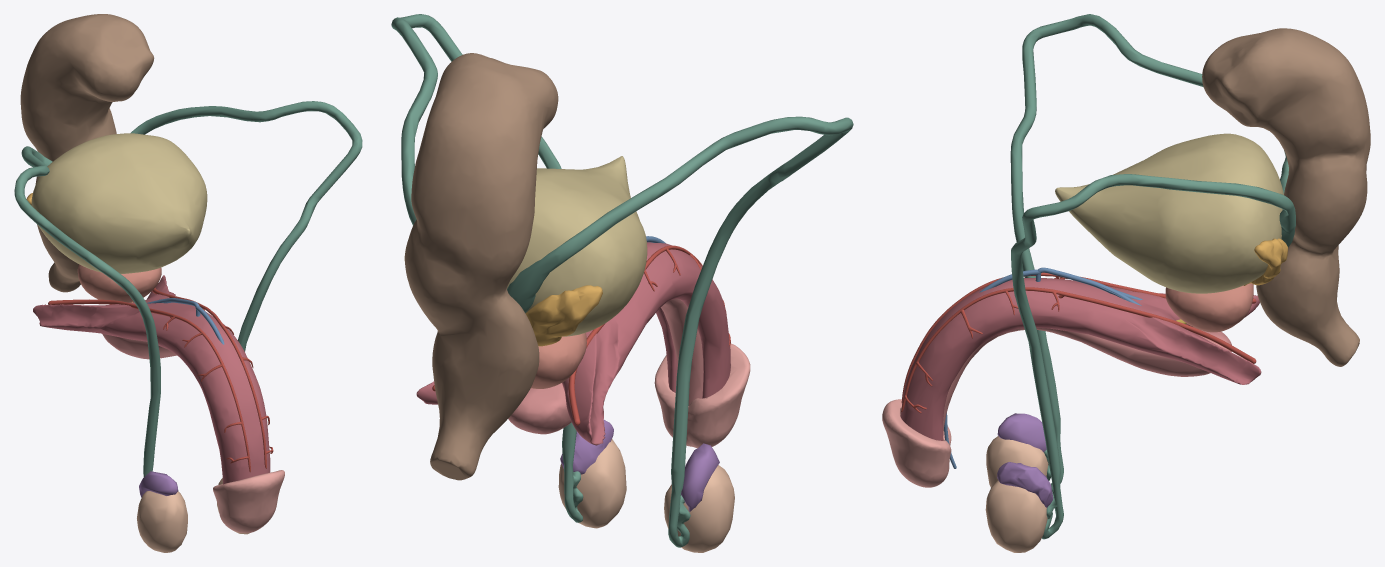
Rendered from prostate.glb.
3 views of the same model, side by side, from view 1: azimuth 30°, elevation 25°; view 2: azimuth 150°, elevation 25°; view 3: azimuth 270°, elevation 25° (orthographic). The views are drawn at different scales.
Parts seen in each view (by area): view 1: urinary-bladder, rectum, corpora-cavernosa, deferent-ducts, glans-penis, testes, dorsal-arteries, prostate, corpus-spongiosum, epididymides, dorsal-veins; view 2: rectum, deferent-ducts, urinary-bladder, corpora-cavernosa, testes, glans-penis, corpus-spongiosum, seminal-vesicles, epididymides, prostate, dorsal-arteries; view 3: rectum, urinary-bladder, corpora-cavernosa, deferent-ducts, testes, glans-penis, dorsal-arteries, prostate, corpus-spongiosum, epididymides, dorsal-veins, seminal-vesicles.
Boxes of the visible parts, left/top/right/bottom form: urinary-bladder: left=31, top=133, right=207, bottom=273; rectum: left=20, top=14, right=154, bottom=292; corpora-cavernosa: left=33, top=275, right=270, bottom=484; deferent-ducts: left=14, top=101, right=362, bottom=477; glans-penis: left=213, top=470, right=284, bottom=533; testes: left=137, top=478, right=249, bottom=552; dorsal-arteries: left=48, top=287, right=273, bottom=472; prostate: left=77, top=264, right=161, bottom=302; corpus-spongiosum: left=102, top=334, right=176, bottom=359; epididymides: left=139, top=471, right=178, bottom=497; dorsal-veins: left=147, top=298, right=224, bottom=344; rectum: left=405, top=53, right=558, bottom=480; deferent-ducts: left=391, top=14, right=853, bottom=547; urinary-bladder: left=507, top=156, right=647, bottom=336; corpora-cavernosa: left=416, top=242, right=730, bottom=445; testes: left=558, top=439, right=734, bottom=552; glans-penis: left=654, top=343, right=750, bottom=448; corpus-spongiosum: left=508, top=299, right=703, bottom=434; seminal-vesicles: left=404, top=247, right=602, bottom=346; epididymides: left=560, top=420, right=719, bottom=511; prostate: left=531, top=333, right=586, bottom=388; dorsal-arteries: left=432, top=245, right=730, bottom=425; rectum: left=1202, top=28, right=1370, bottom=366; urinary-bladder: left=1055, top=133, right=1283, bottom=293; corpora-cavernosa: left=900, top=278, right=1261, bottom=440; deferent-ducts: left=1010, top=14, right=1295, bottom=539; testes: left=985, top=436, right=1048, bottom=552; glans-penis: left=882, top=399, right=951, bottom=487; dorsal-arteries: left=901, top=272, right=1256, bottom=413; prostate: left=1165, top=283, right=1253, bottom=332; corpus-spongiosum: left=943, top=328, right=1231, bottom=439; epididymides: left=997, top=413, right=1053, bottom=507; dorsal-veins: left=944, top=267, right=1142, bottom=468; seminal-vesicles: left=1244, top=238, right=1287, bottom=285.
Size of the model in its own units: 2.52 by 3.18 by 2.81.
